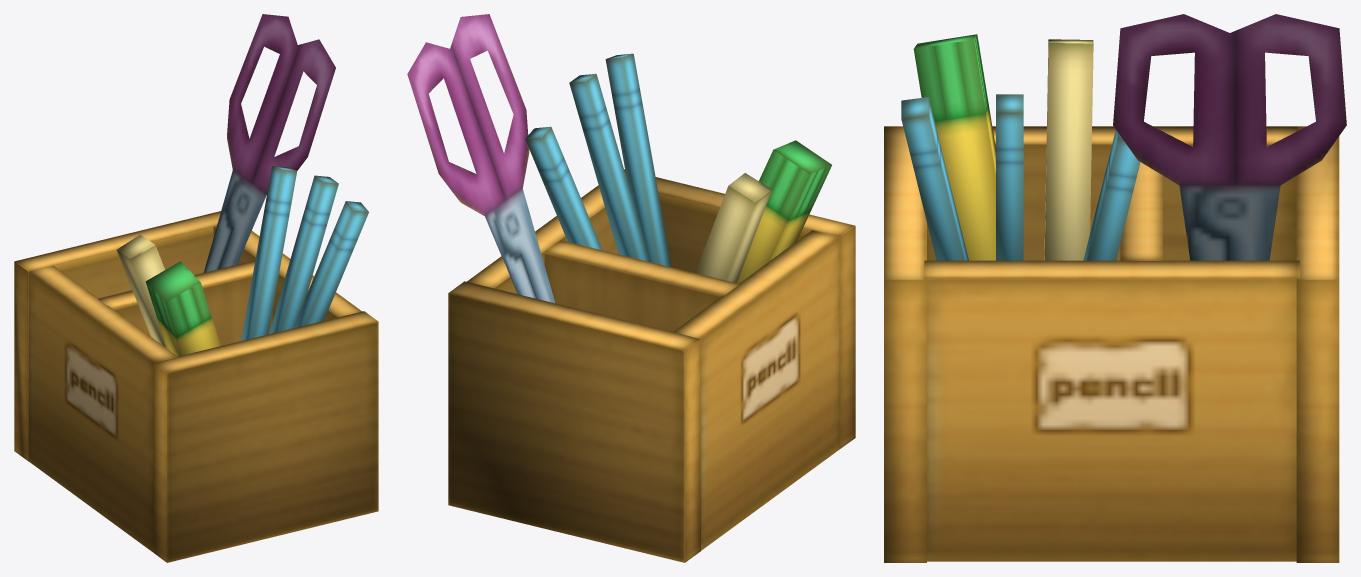
File: a_SWIgen01.glb
The picture shows the model from 3 angles, left to right: view 1: azimuth 30°, elevation 25°; view 2: azimuth 150°, elevation 25°; view 3: azimuth 270°, elevation 25°; orthographic projection. The views are drawn at different scales.
Parts seen in each view (by area): view 1: a_SWIgen01; view 2: a_SWIgen01; view 3: a_SWIgen01.
Part boxes in pixels (<box>): a_SWIgen01: <box>14,14,378,562</box>; a_SWIgen01: <box>407,14,855,562</box>; a_SWIgen01: <box>884,14,1346,562</box>.
Bounding box in the file's own units: 0.316 × 0.4641 × 0.3362.
1 material, 1 textured.
